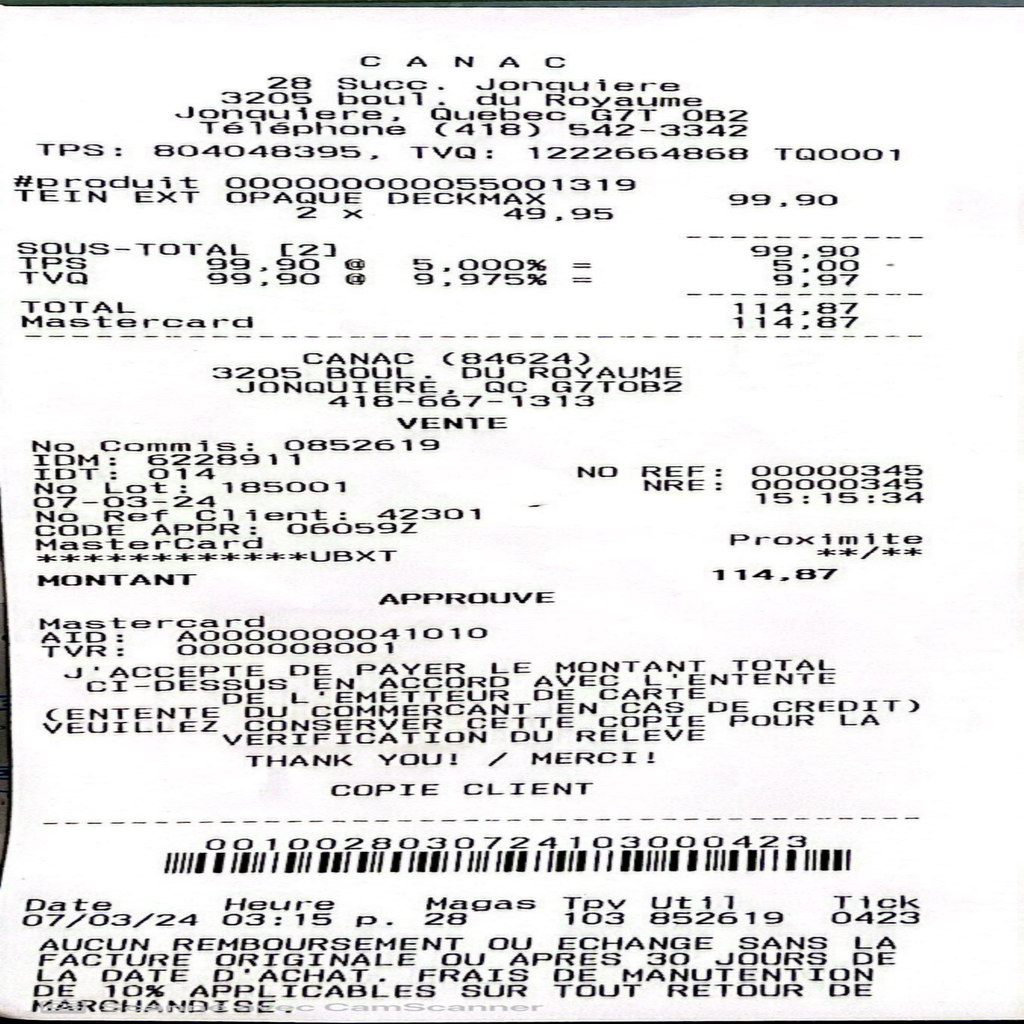recipt: (6, 8, 1022, 1014)
